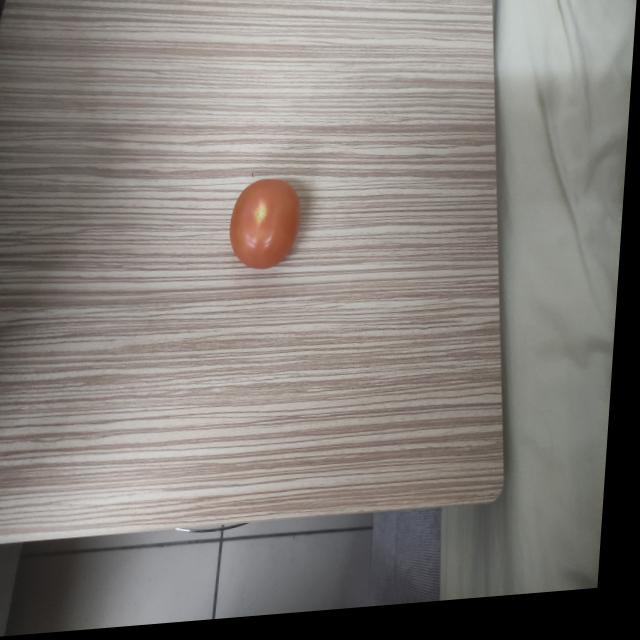sari: (226, 179, 303, 272)
